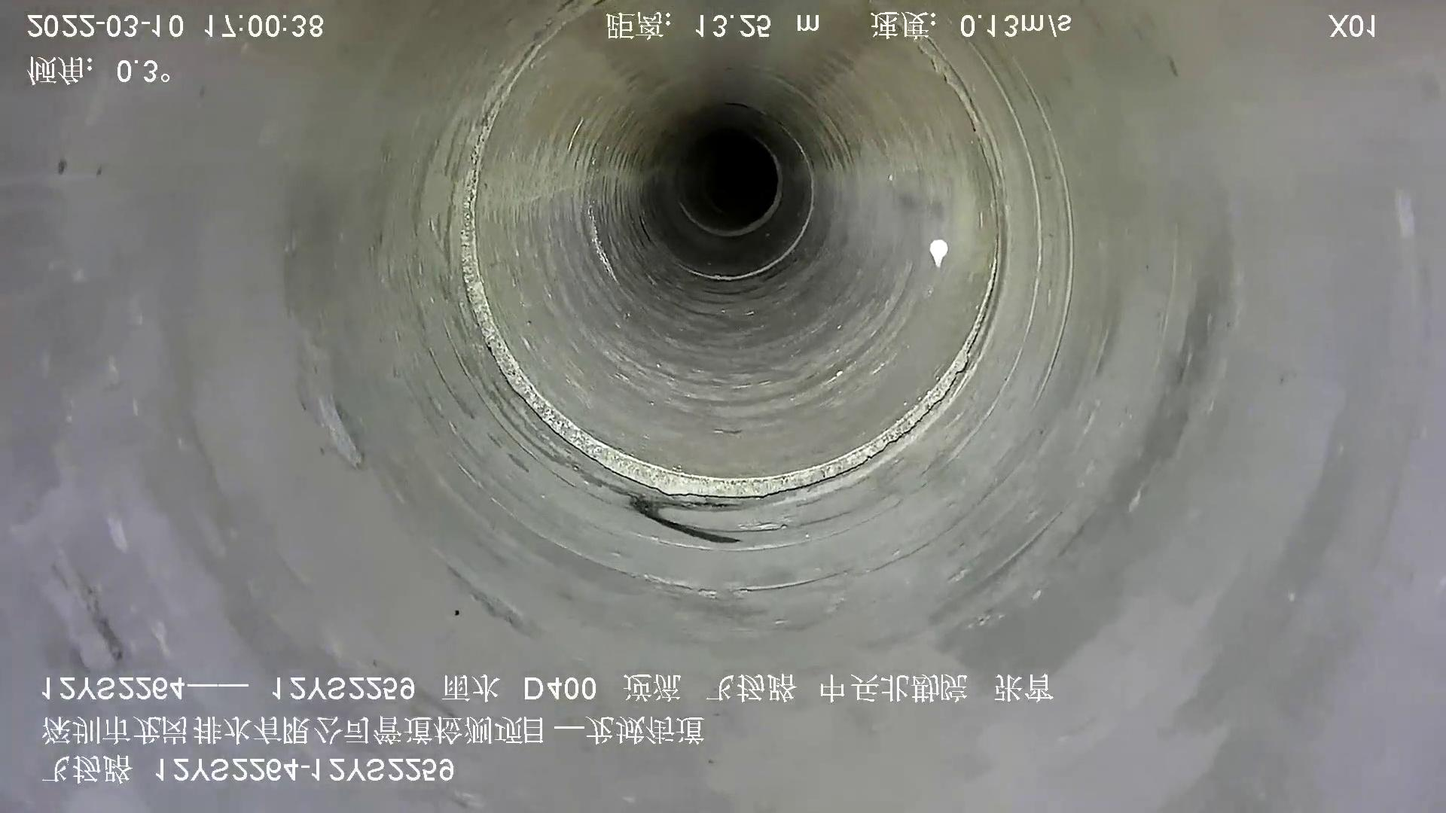CKTJ: (457, 1, 1008, 504), (673, 117, 820, 283), (678, 152, 786, 238)
PL: (581, 201, 620, 284)
